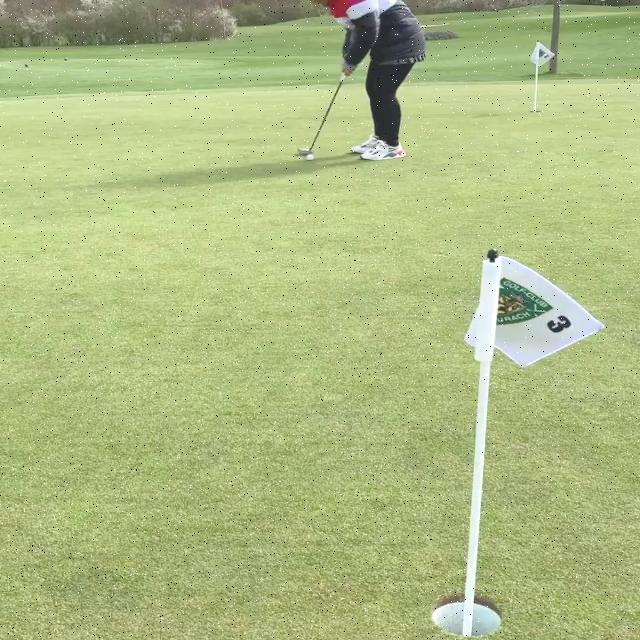golf ball: (306, 154, 315, 160)
golf club-handle: (296, 70, 347, 156)
golf club-head: (298, 149, 314, 157)
